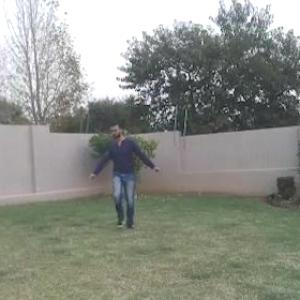land: (80, 109, 161, 238)
